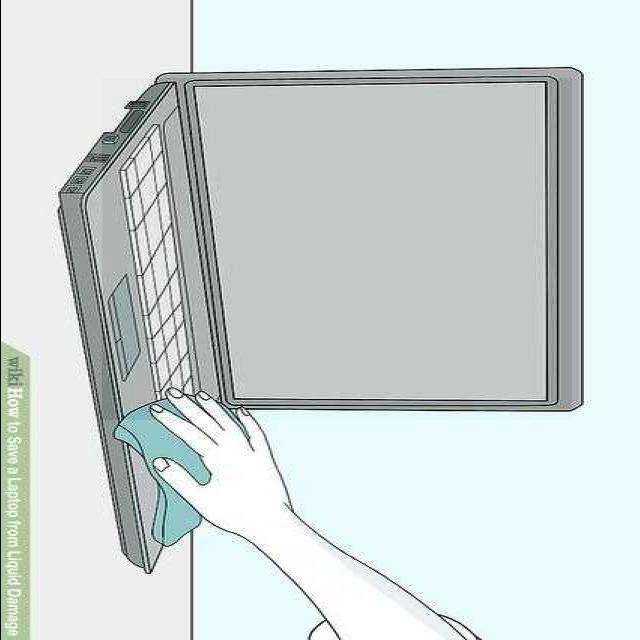-keyboard-: (102, 78, 572, 420)
